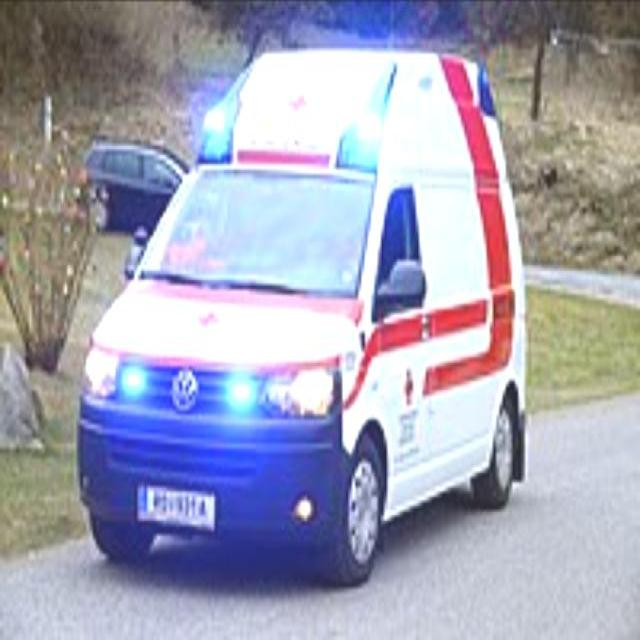emergency-vehicle: (77, 51, 525, 594)
